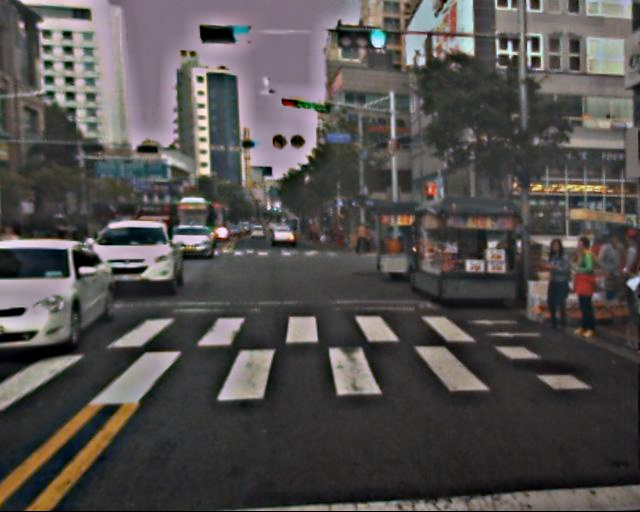person: (554, 236, 605, 339), (531, 236, 576, 333), (587, 231, 630, 319), (604, 227, 640, 324)
